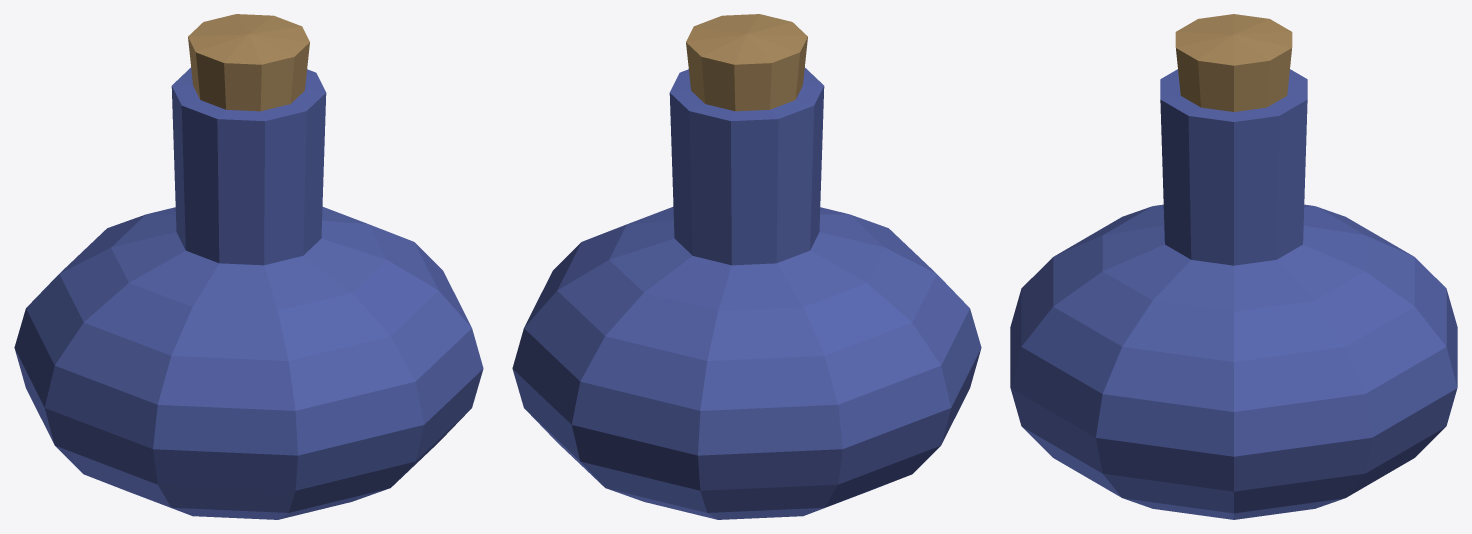
Rendered from Bottle_Blue.fbx.
The picture shows the model from 3 angles, left to right: view 1: azimuth 30°, elevation 25°; view 2: azimuth 150°, elevation 25°; view 3: azimuth 270°, elevation 25°; orthographic projection.
Visible parts, largest first — view 1: pSphere3; view 2: pSphere3; view 3: pSphere3.
Boxes of the visible parts, <box> form: pSphere3: <box>14,14,483,519</box>; pSphere3: <box>512,14,981,519</box>; pSphere3: <box>1010,14,1457,519</box>.
Bounding box in the file's own units: 2.08 × 2.21 × 1.98.
